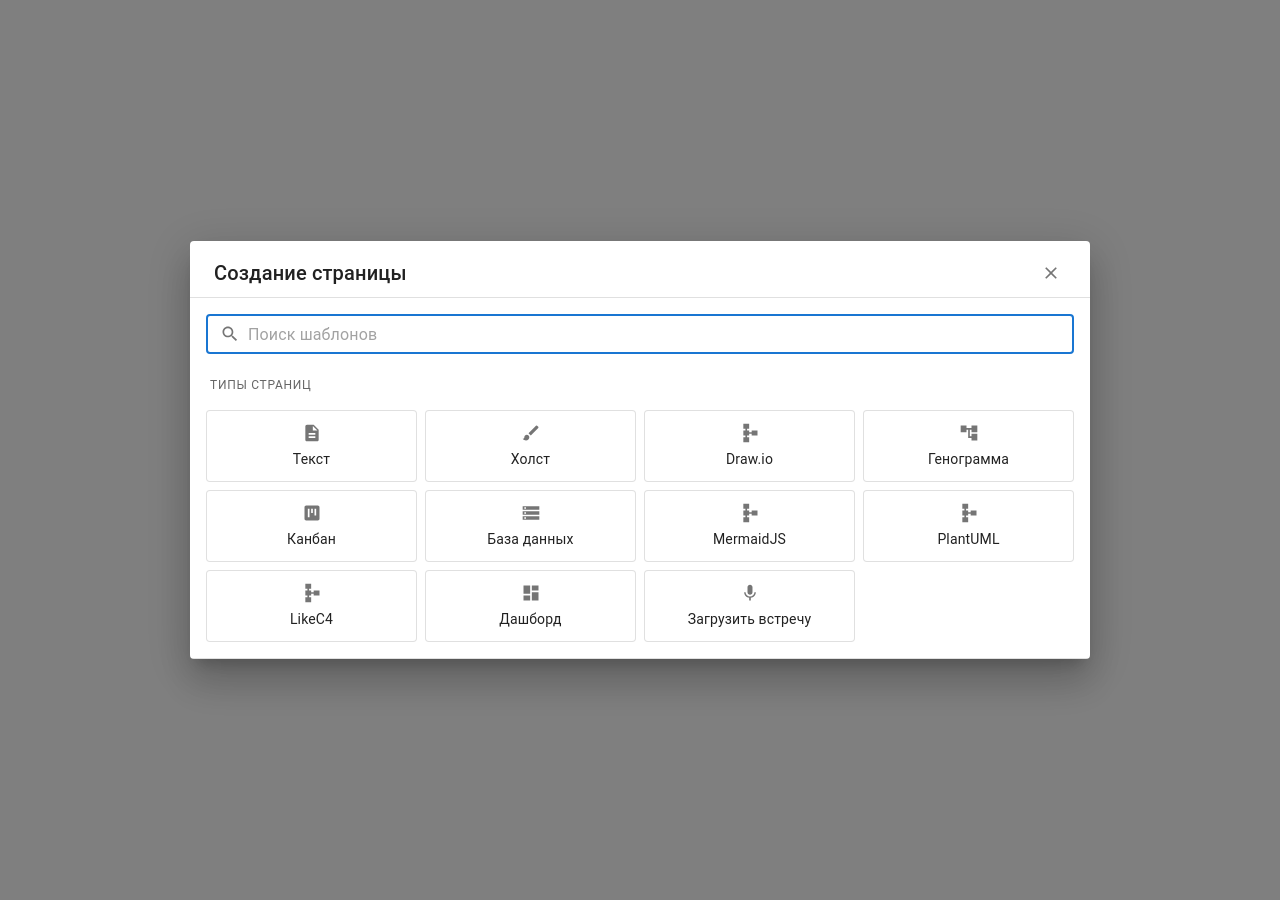
CreatePageDialog › shows templates when a query is typed
The width and height of the screenshot is (1280, 900).
Type "встреч" into the field labelled "Поиск шаблонов" at (661, 334), box [248,314,1074,354]
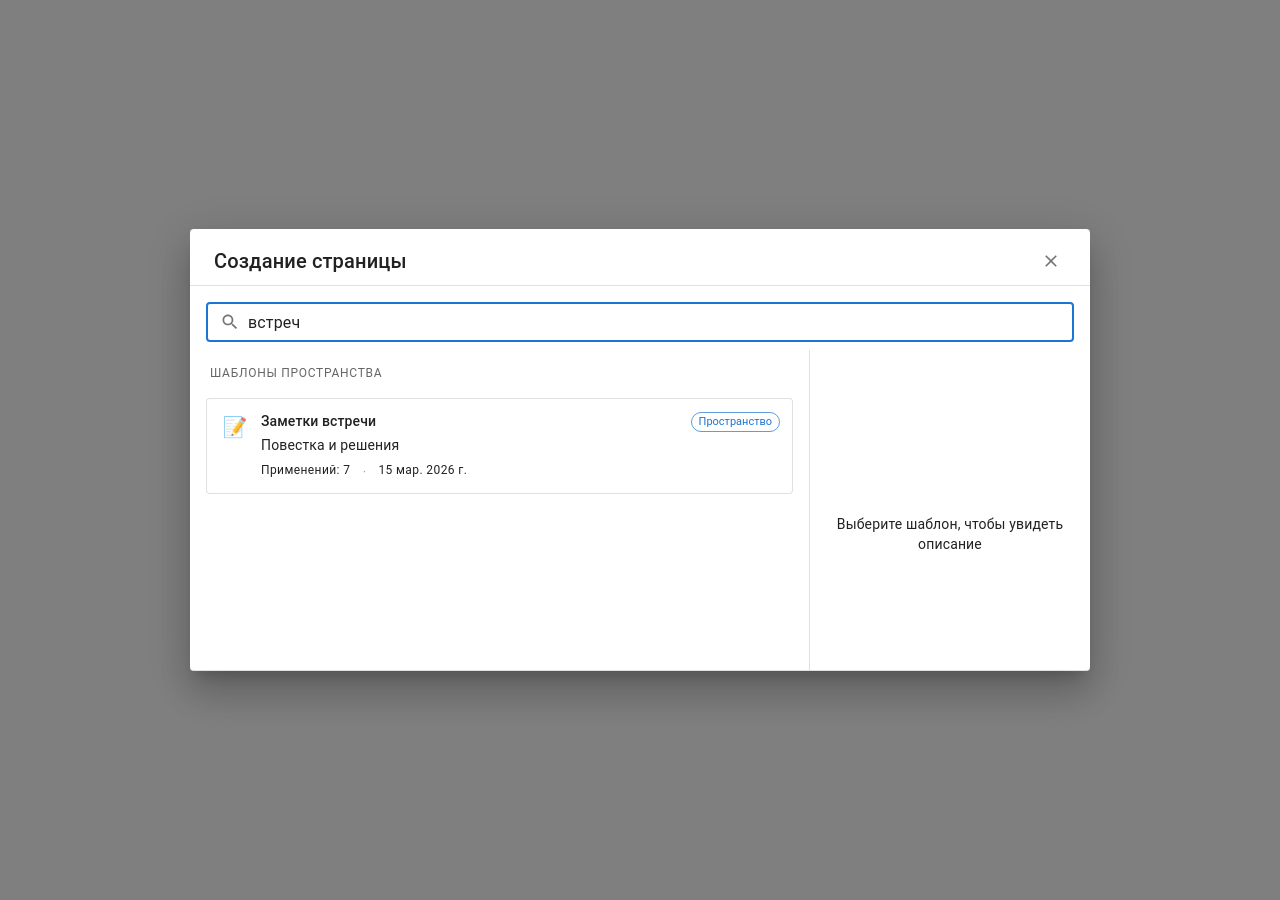
Expected: the text "Шаблоны пространства" is shown, [210,366,382,380]
Expected: the heading "Заметки встречи" is shown, [261,413,376,429]
